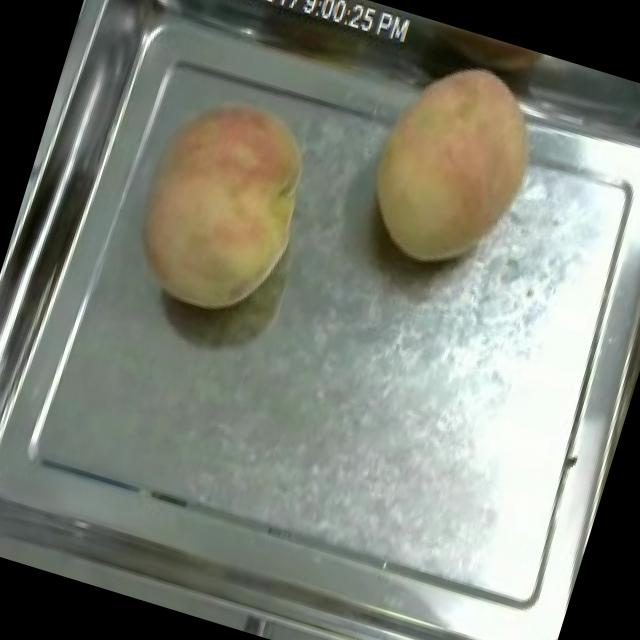Fruit: (102, 69, 335, 338), (339, 31, 566, 292)
